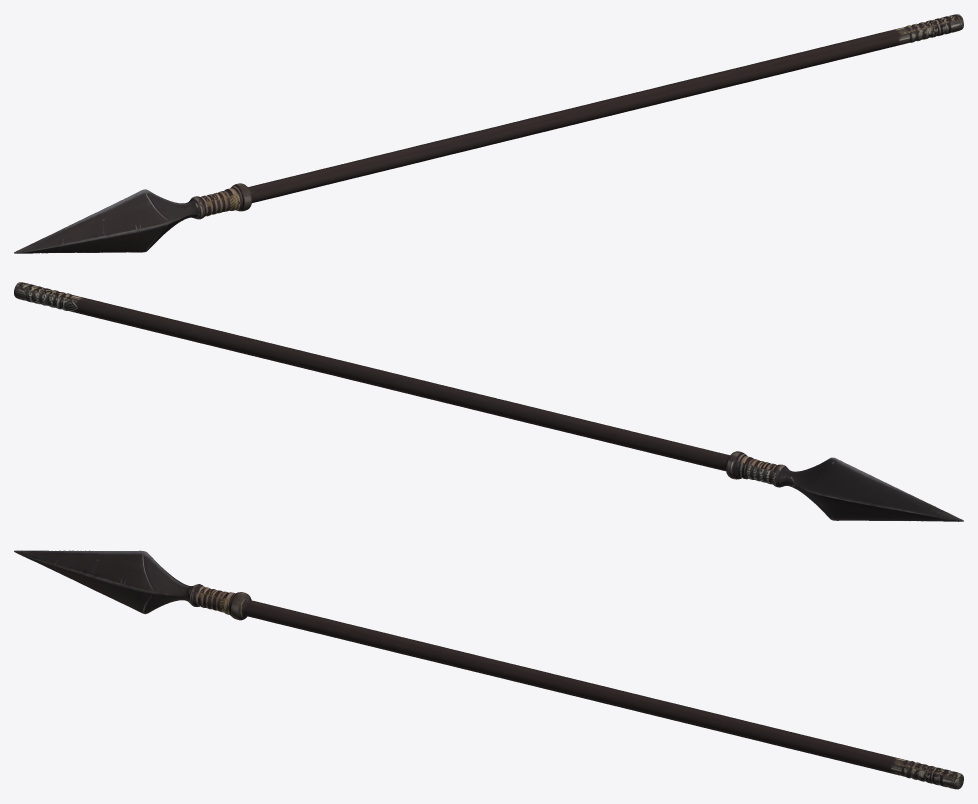
The model's file is Lancia_del_consumato-texture.glb.
3 views of the same model, one above another, from view 1: azimuth 30°, elevation 25°; view 2: azimuth 150°, elevation 25°; view 3: azimuth 330°, elevation 25° (orthographic).
Parts seen in each view (by area): view 1: Mesh_0.001; view 2: Mesh_0.001; view 3: Mesh_0.001.
Boxes of the visible parts, bbox=[...] form: Mesh_0.001: bbox=[14, 14, 963, 253]; Mesh_0.001: bbox=[14, 282, 963, 521]; Mesh_0.001: bbox=[14, 550, 963, 789].
Bounding box in the file's own units: 23.75 × 1.5 × 0.7415.
1 material, 1 textured.
